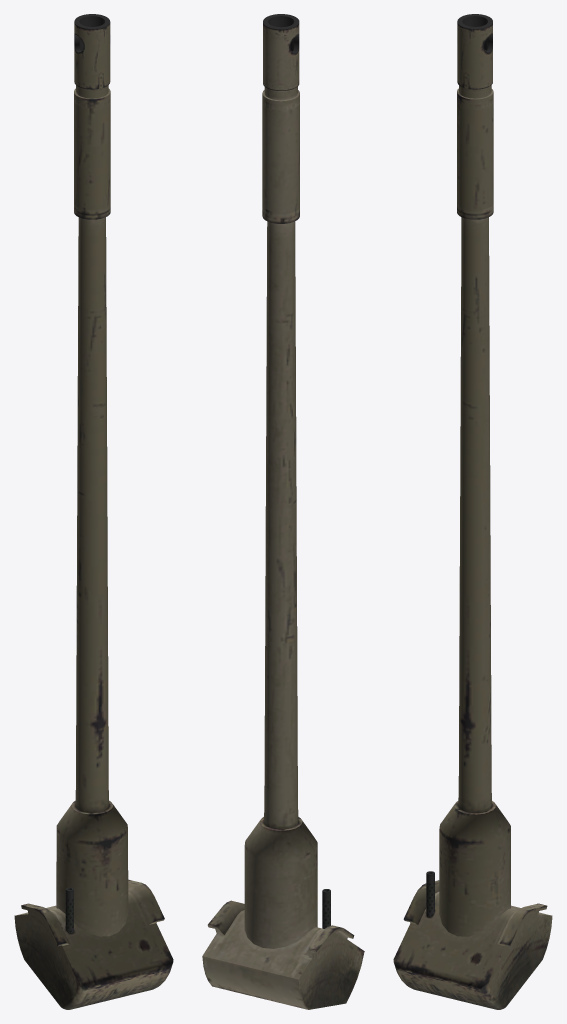
File: Gun_04.glb
3 views of the same model, side by side, from view 1: azimuth 30°, elevation 25°; view 2: azimuth 150°, elevation 25°; view 3: azimuth 330°, elevation 25° (orthographic). The views are drawn at different scales.
Parts seen in each view (by area): view 1: set_0_group_0; view 2: set_0_group_0; view 3: set_0_group_0.
Boxes of the visible parts, x1,y1,x2,y2 form: set_0_group_0: (14,14,173,1009); set_0_group_0: (202,14,364,1009); set_0_group_0: (393,14,552,1009).
Bounding box in the file's own units: 0.6654 × 5.77 × 0.7185.
1 material, 1 textured.
